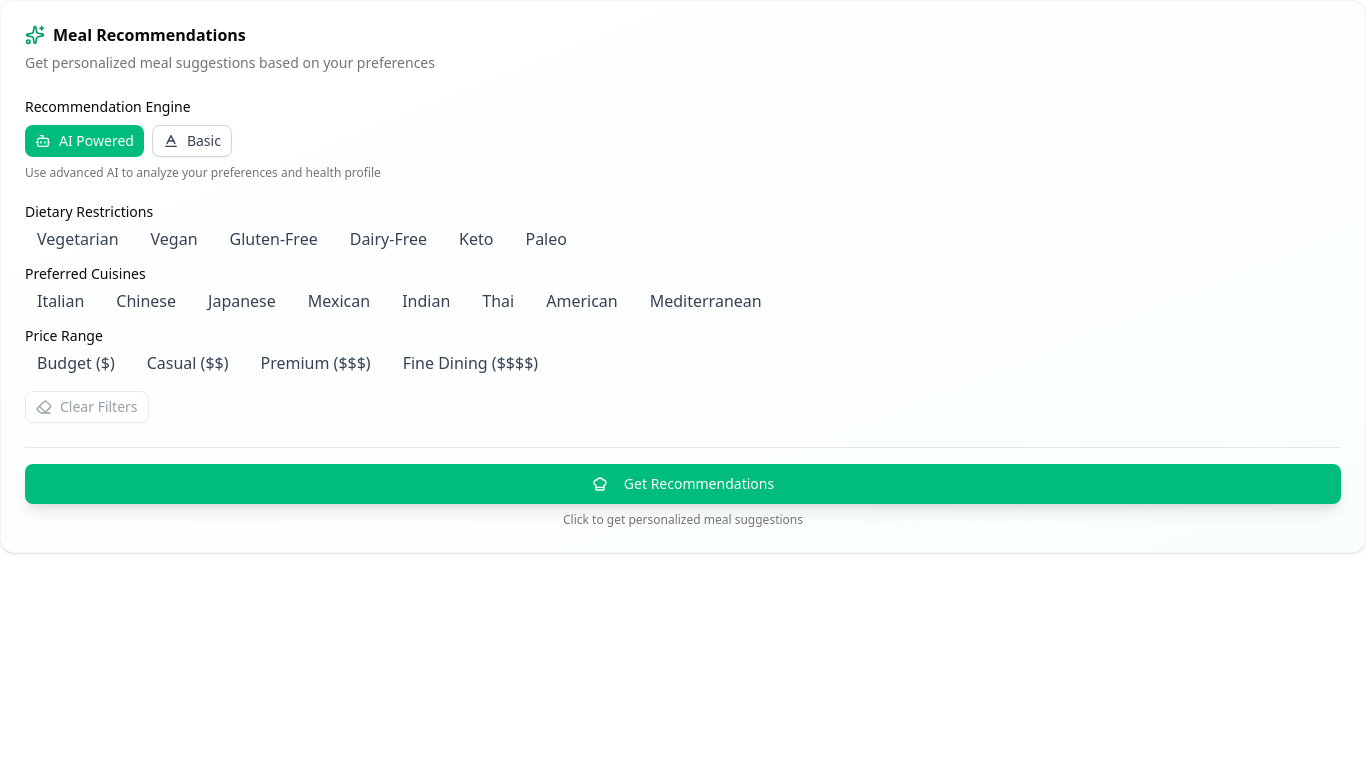
it: RecommendationCarousel › displays empty state when no recommendations are available
Click the button "Get Recommendations" at (683, 484), box [25,464,1341,504]
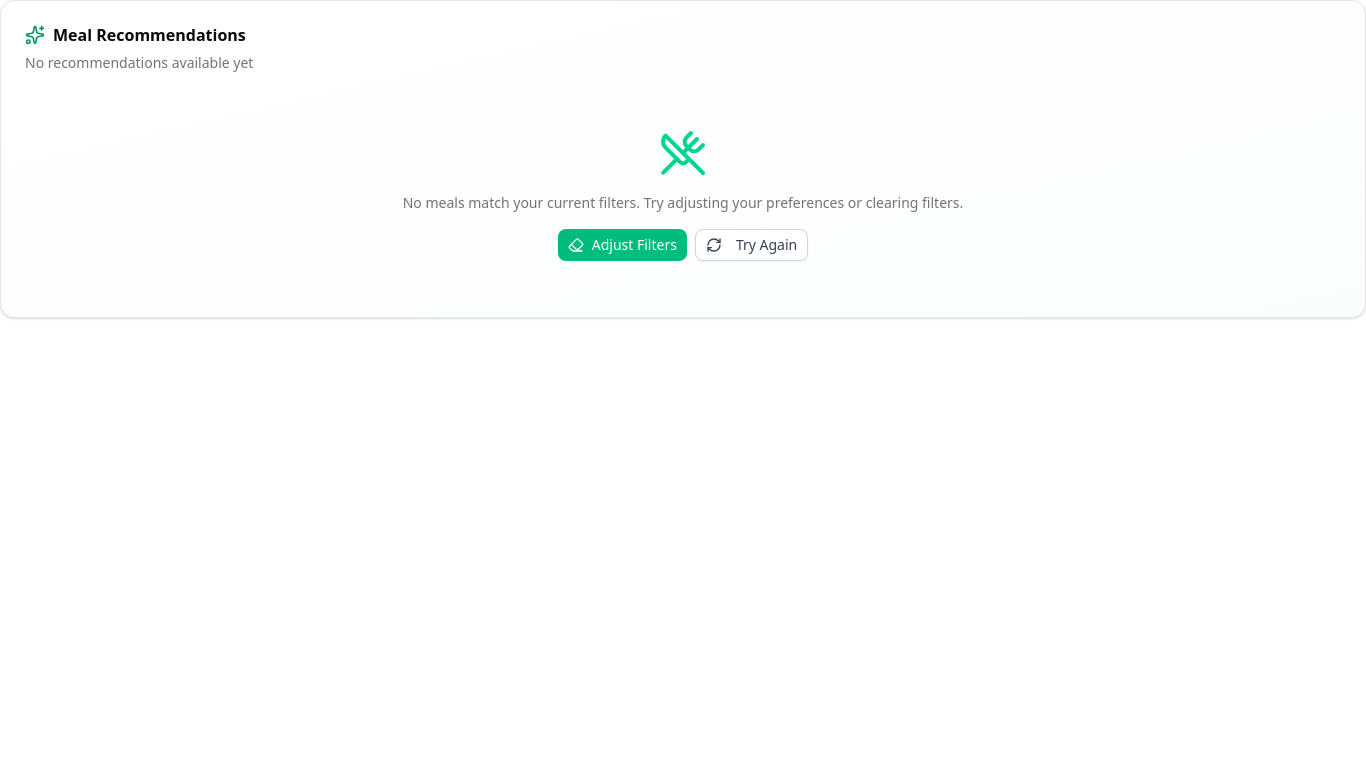
Expected: the text "No recommendations available yet" is shown, [25,53,253,72]
Expected: the text "No meals match your current filters" is shown, [403,193,963,212]
Expected: the button "Adjust Filters" is shown, [558,229,687,261]
